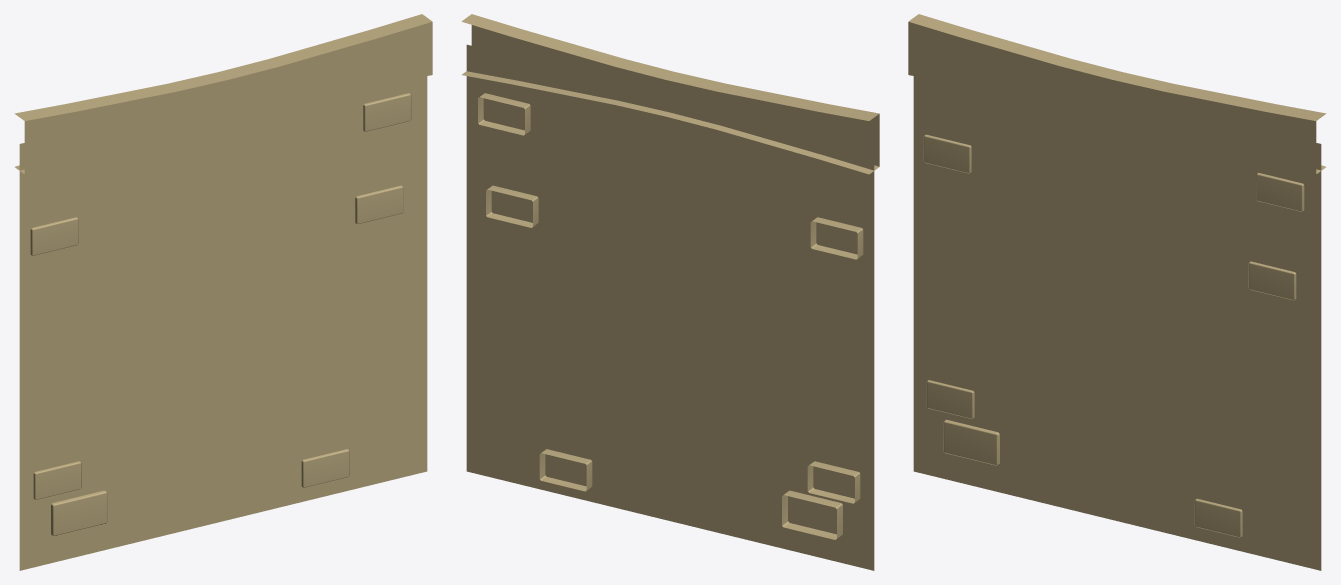
Rendered from Wall_2.fbx.
3 views of the same model, side by side, from view 1: azimuth 30°, elevation 25°; view 2: azimuth 150°, elevation 25°; view 3: azimuth 330°, elevation 25° (orthographic).
Visible parts, largest first — view 1: Wall_2; view 2: Wall_2; view 3: Wall_2.
Boxes of the visible parts, x1=… form: Wall_2: x1=14, y1=14, x2=432, y2=570; Wall_2: x1=461, y1=14, x2=879, y2=570; Wall_2: x1=908, y1=14, x2=1326, y2=570.
Bounding box in the file's own units: 4 × 4.25 × 0.194.
